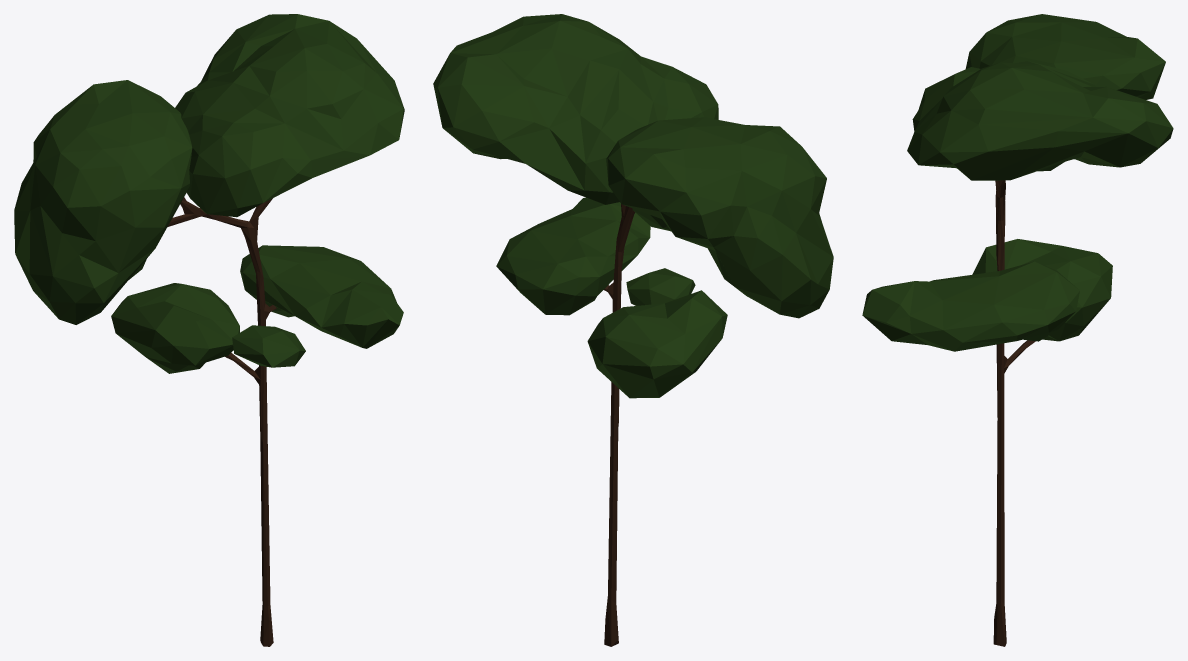
The model's file is SM_tree_jungle_06.fbx.
3 renders of one model, left to right at view 1: azimuth 30°, elevation 25°; view 2: azimuth 150°, elevation 25°; view 3: azimuth 270°, elevation 25°, orthographic. The views are drawn at different scales.
Visible parts, largest first — view 1: Object006; view 2: Object006; view 3: Object006.
Part boxes in pixels (left/top/right/bottom): Object006: left=14, top=14, right=404, bottom=646; Object006: left=433, top=14, right=833, bottom=646; Object006: left=862, top=14, right=1173, bottom=646.
Bounding box in the file's own units: 342 × 556 × 262.
